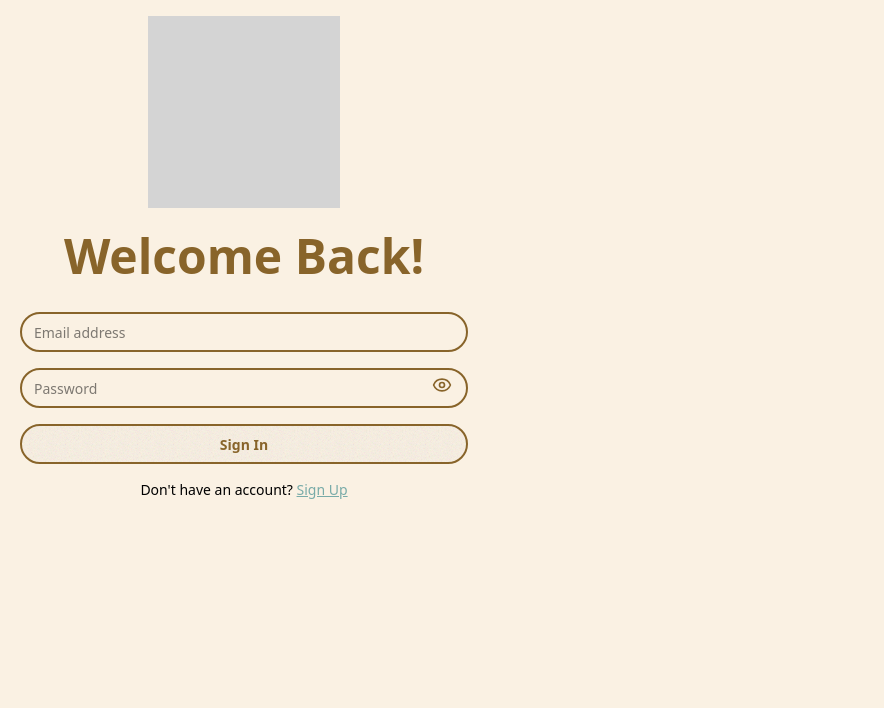
it: LoginPage › displays error message on login failure
Type "test@example.com" into the field with placeholder "Email address" at (244, 332), box [20, 312, 468, 352]
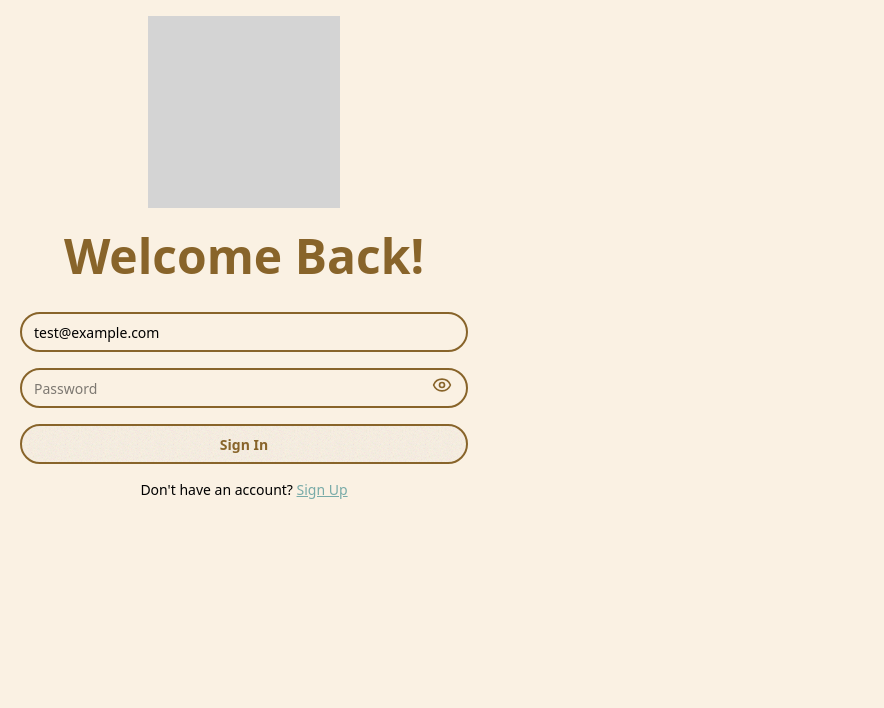
Type "wrongpassword" into the password field with placeholder "Password" at (244, 388), box [20, 368, 468, 408]
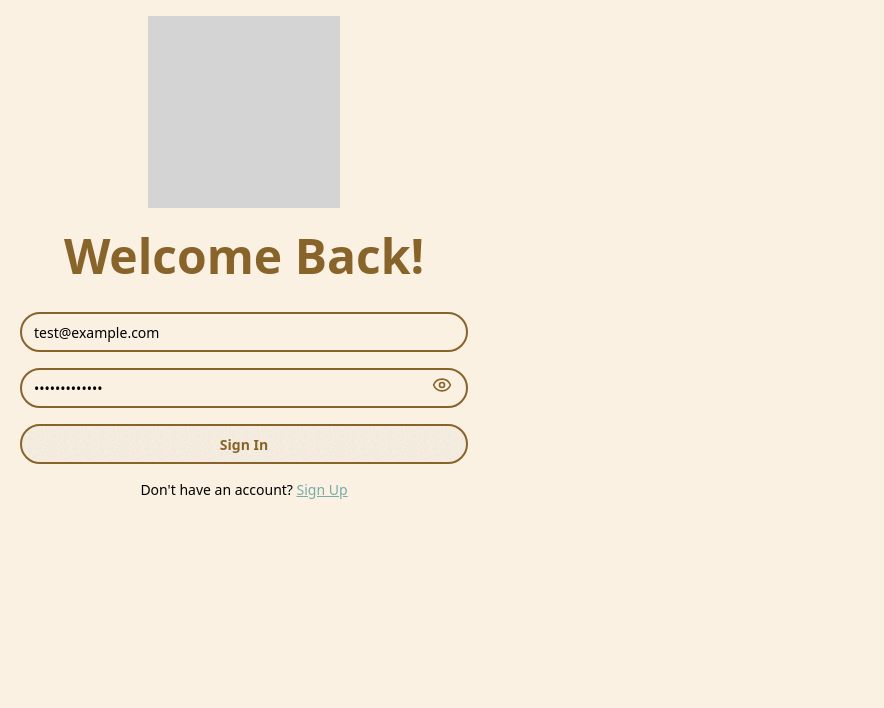
Click the button "Sign In" at (244, 444), box [20, 424, 468, 464]
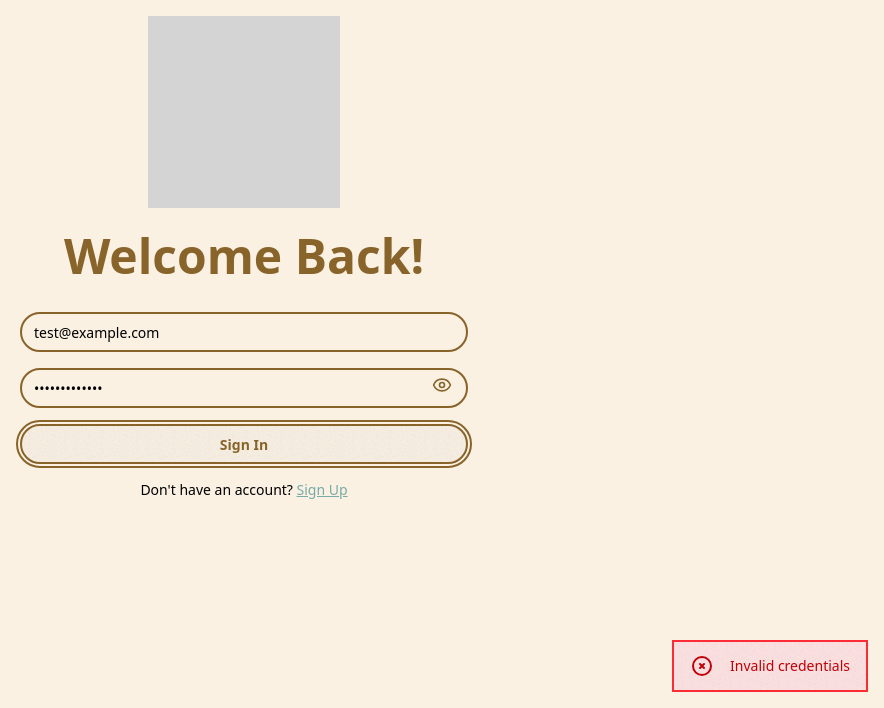
Expected: the text "Invalid credentials" is shown, [730, 656, 850, 676]
